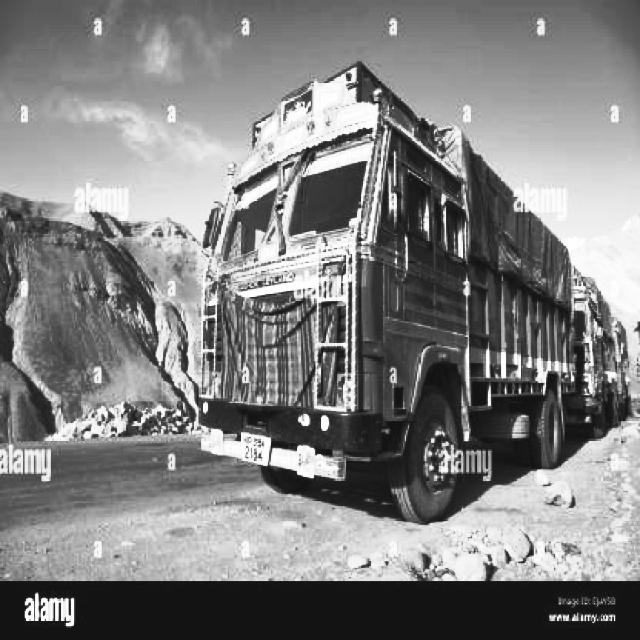HCV: (221, 138, 597, 494)
